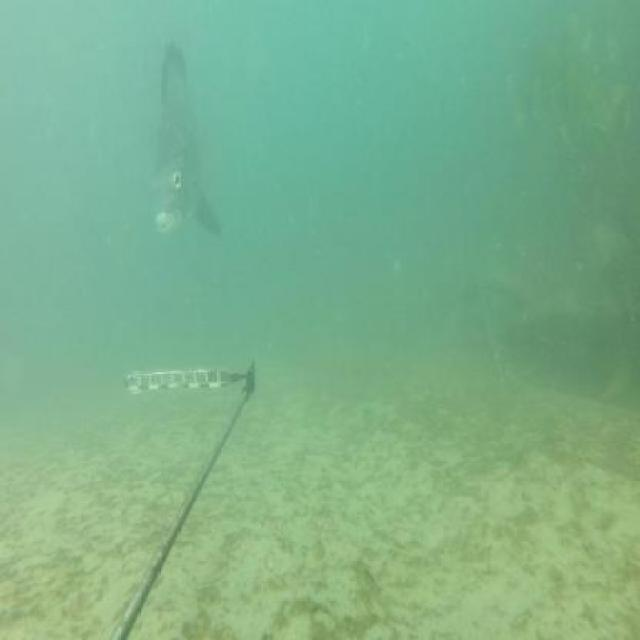acanthopagrus_palmaris: (153, 41, 222, 248)
